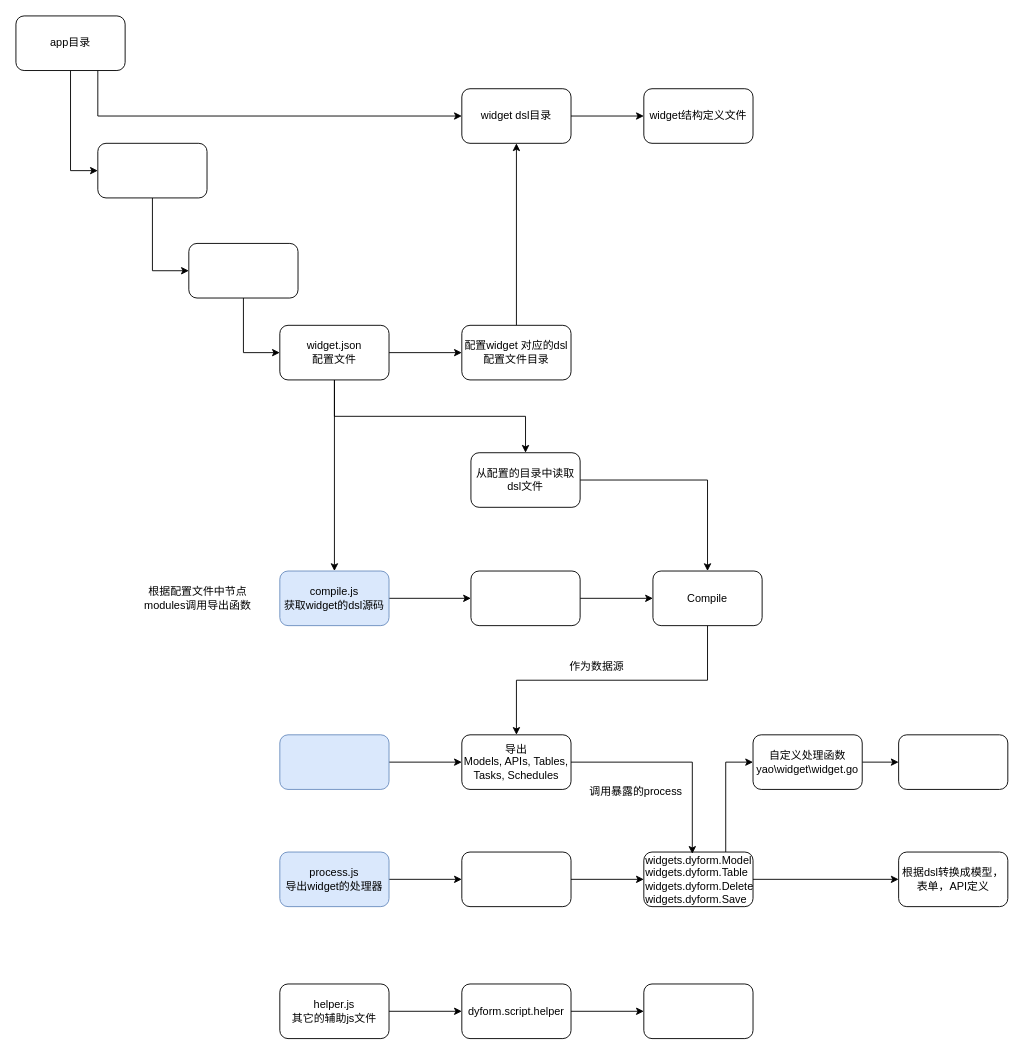
Some shapes in this 1024 by 1055 pixel diagram are drawn without their labels. The centre of each missing label's shape, as x and y in pixels:
/widgets目录下: the point at 152,170
<widget> 一个目录代表一个插件: the point at 243,270
export.js: the point at 334,761
Source方法 获取dsl文件的源代码 返回widget实例与dsl源码的字典: the point at 525,598
方法Export的结果转换并注册成process: the point at 516,879
未看到调用: the point at 698,1011
注册到Yao的全局资源库中，相当于读取文件定义: the point at 953,761
